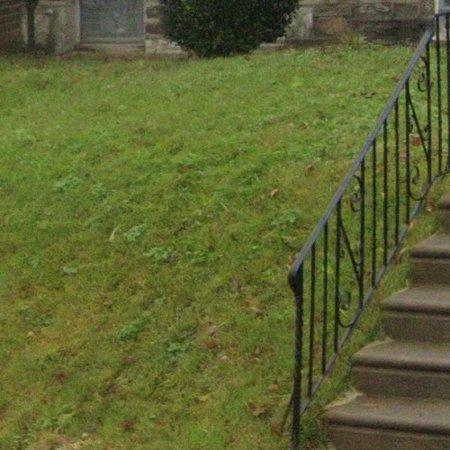stairs: (327, 198, 450, 450)
